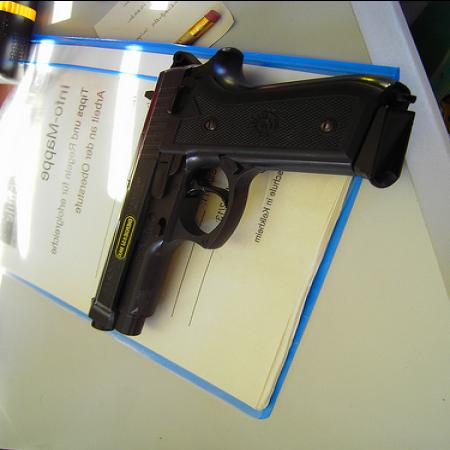Pistol: (82, 44, 416, 335)
